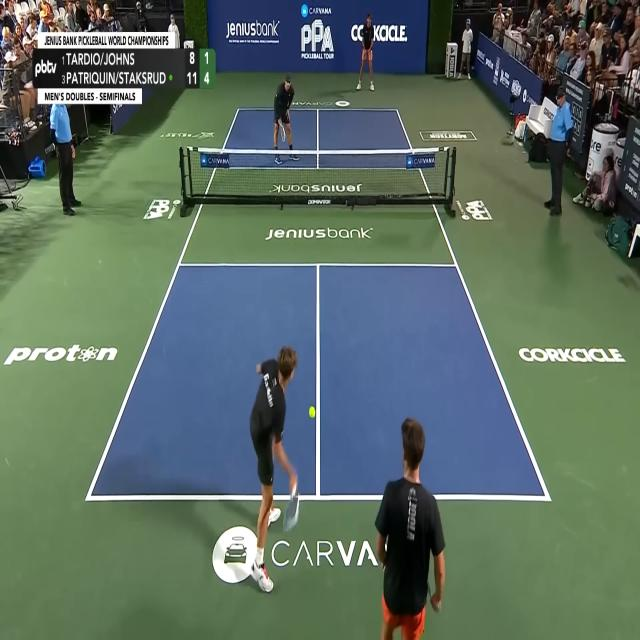ball: (308, 405, 316, 419)
